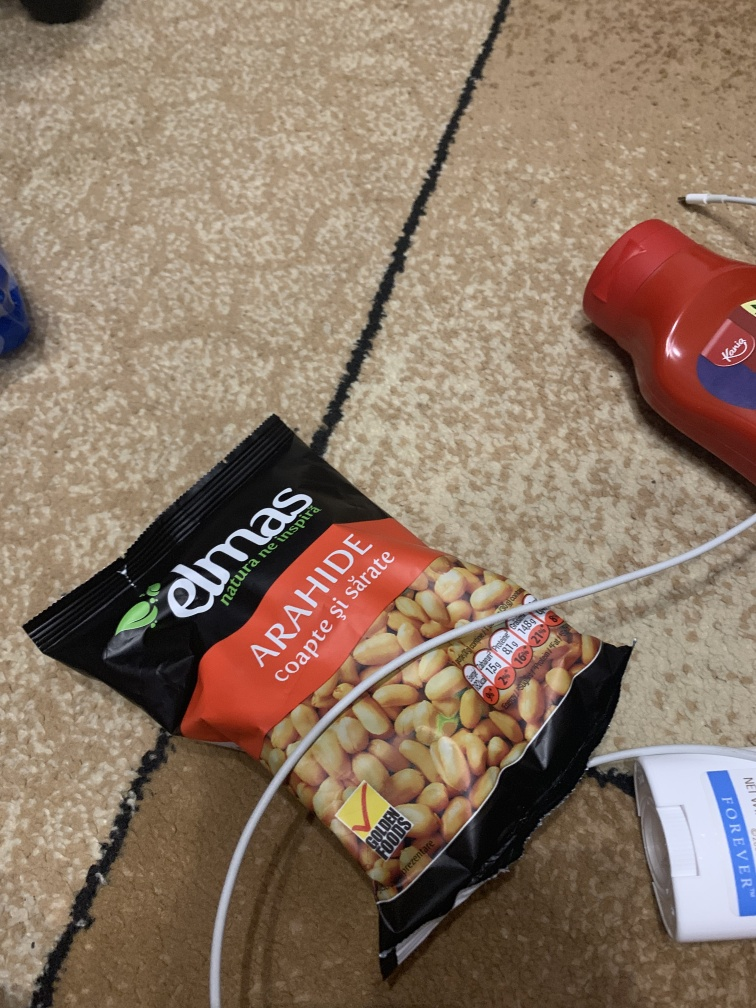ketchup: (564, 212, 756, 512)
peanuts: (57, 410, 637, 957)
